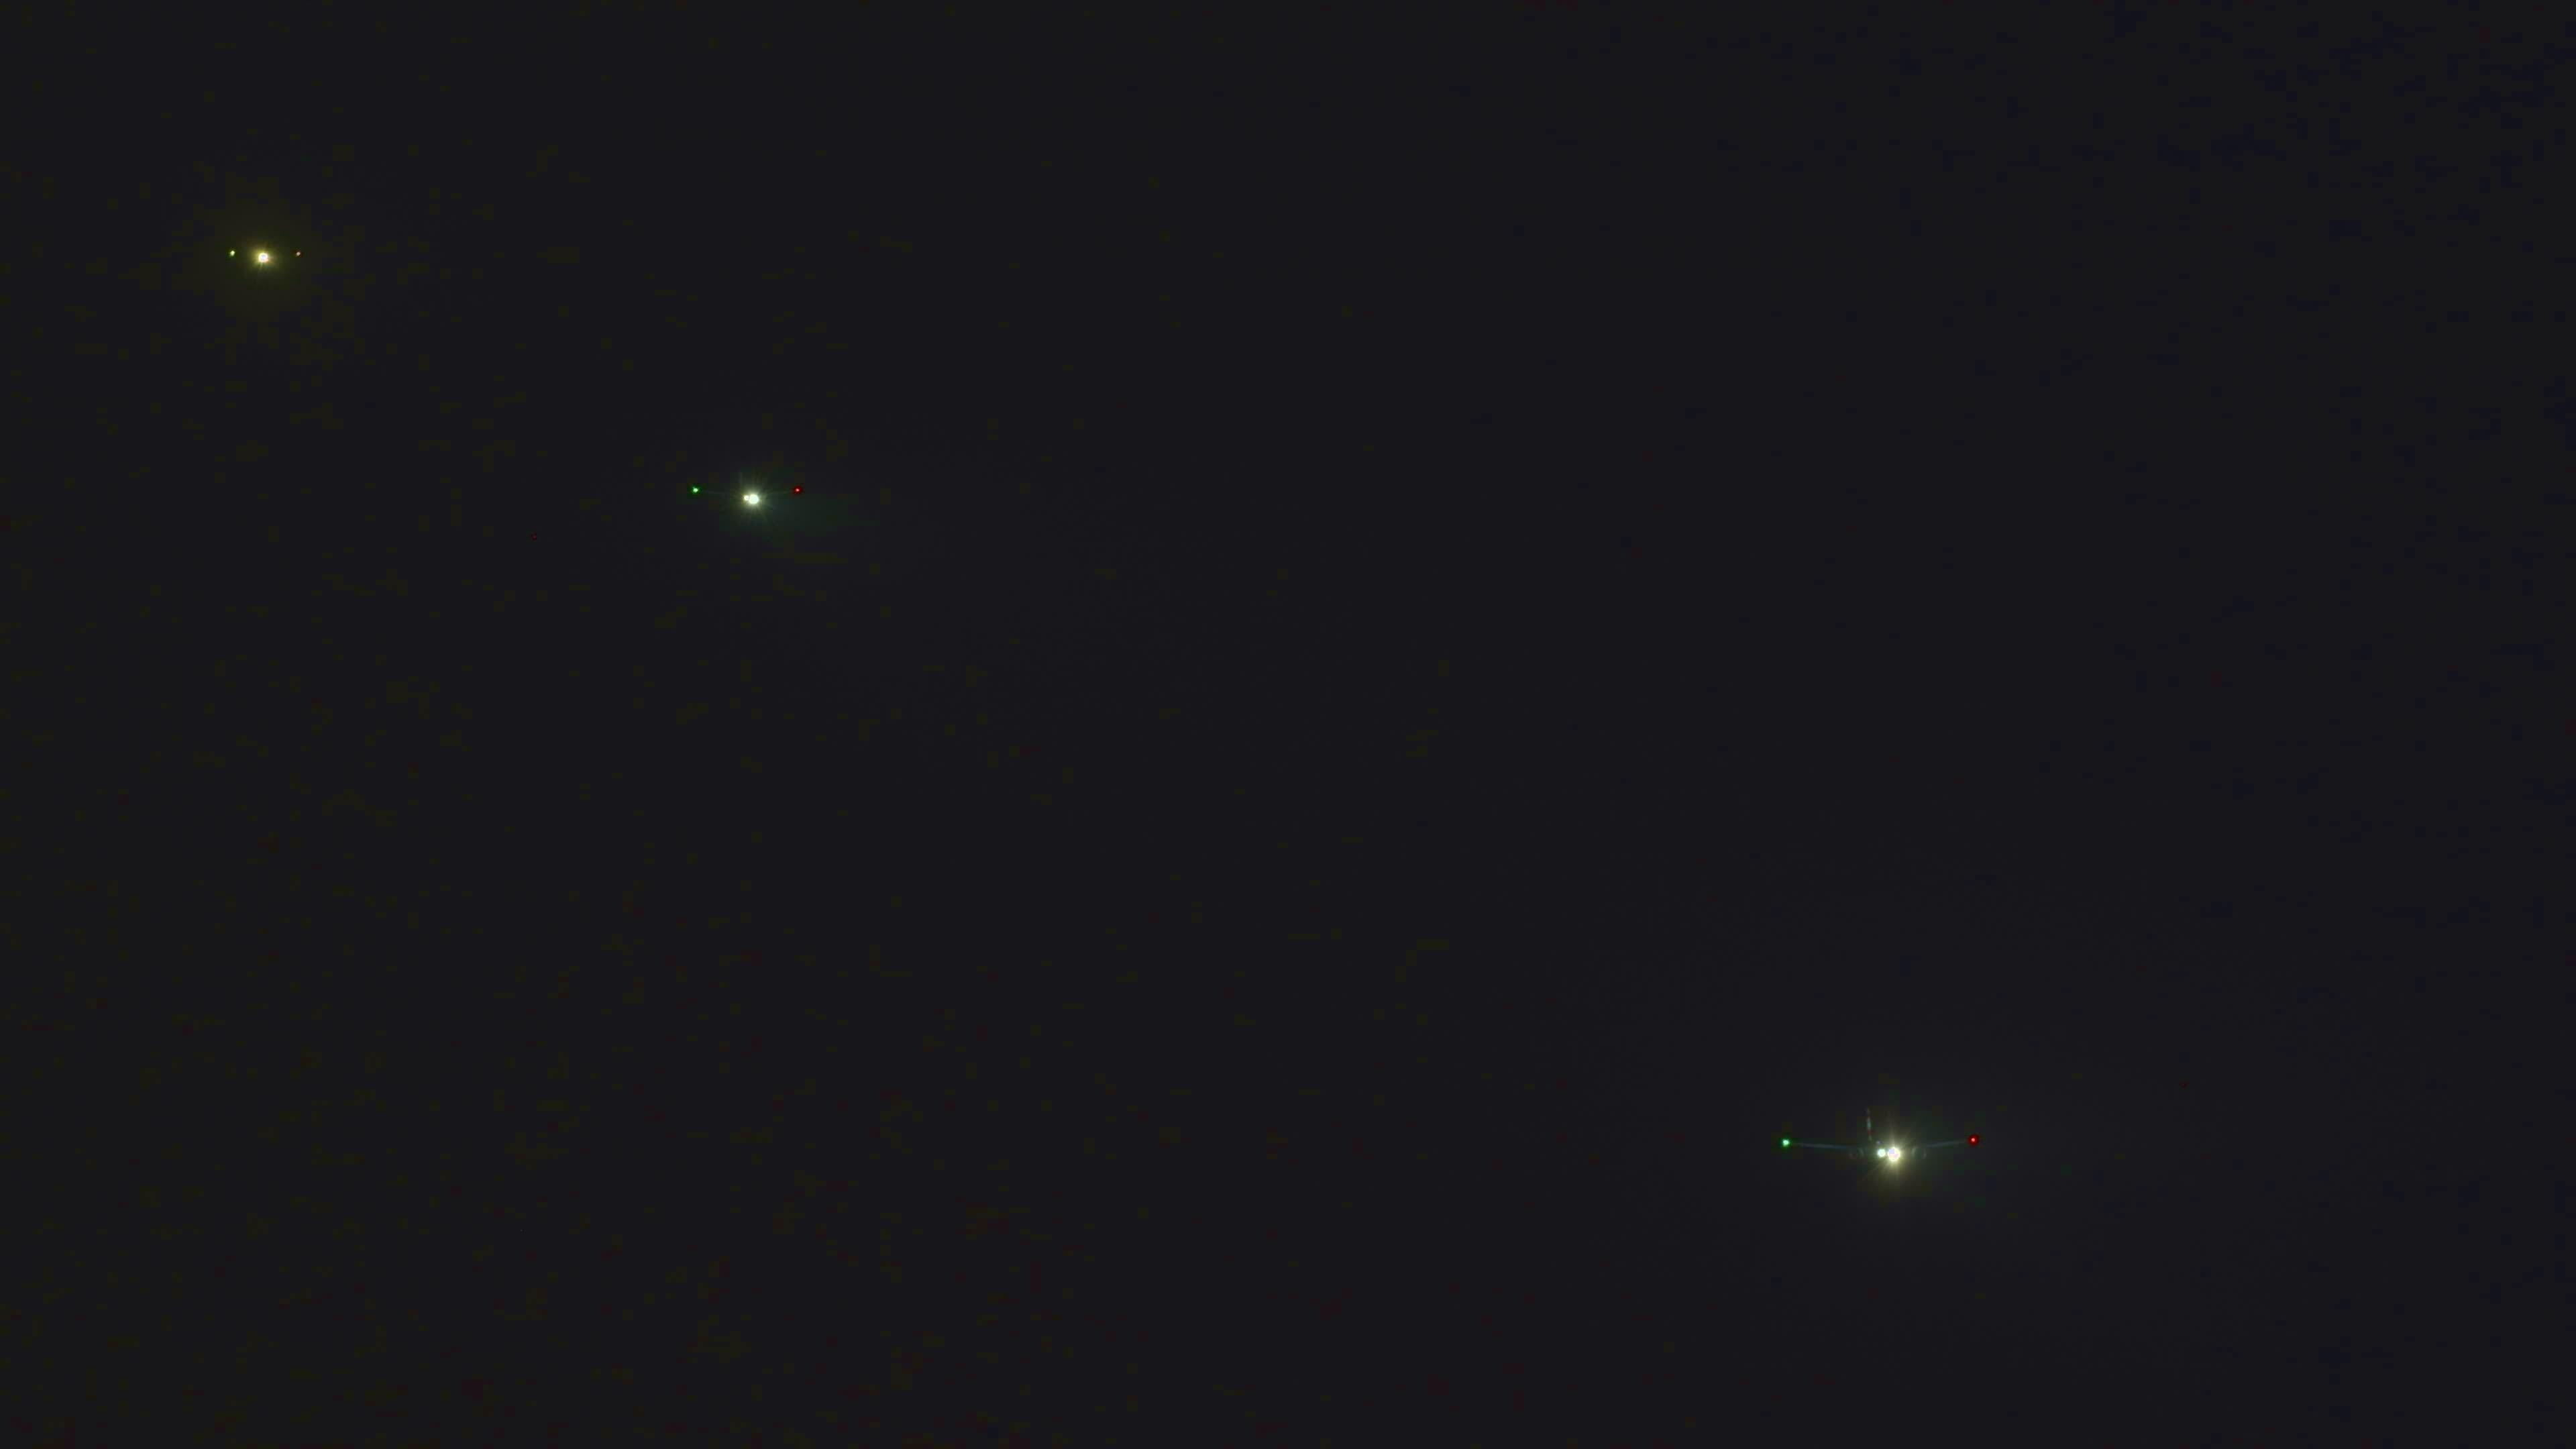Plane: (35, 119, 481, 370), (1691, 1086, 2054, 1196), (665, 465, 849, 540)
